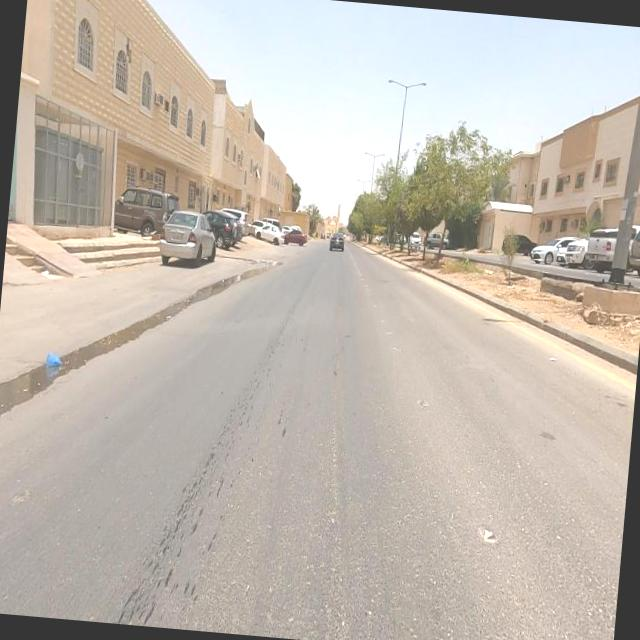debris: (12, 302, 100, 409), (468, 254, 503, 294)
